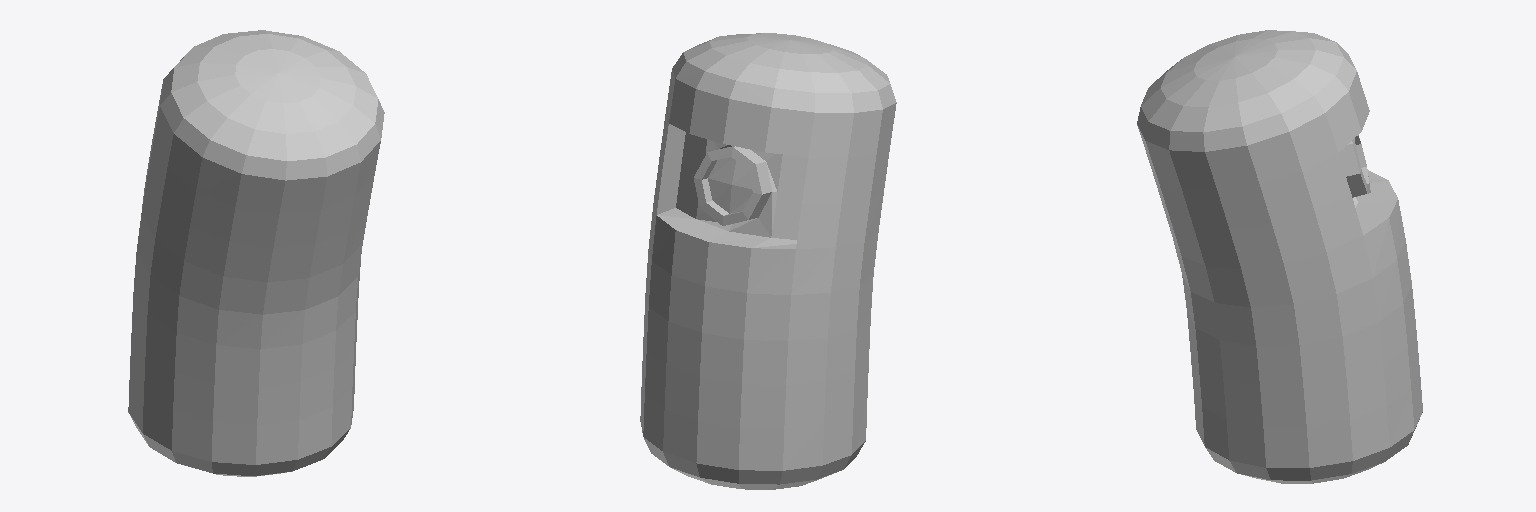
The model's file is idle0.obj.
The picture shows the model from 3 angles: view 1: azimuth 30°, elevation 25°; view 2: azimuth 150°, elevation 25°; view 3: azimuth 270°, elevation 25°; orthographic projection.
Visible parts, largest first — view 1: Sphere; view 2: Sphere; view 3: Sphere.
Part boxes in pixels (x1,y1,x2,y2): Sphere: (128,30,384,476); Sphere: (640,33,896,489); Sphere: (1137,30,1422,483).
Bounding box in the file's own units: 1 × 2 × 1.26.